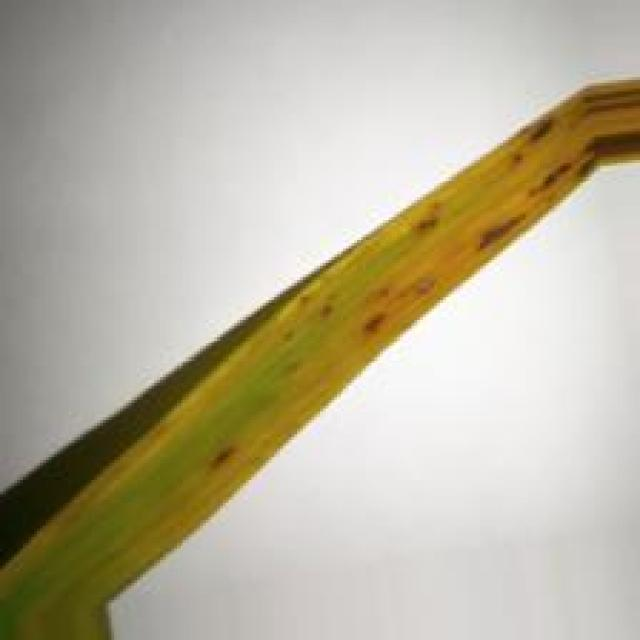Narrow_Brown_Leaf_Spot: (32, 81, 640, 640)
